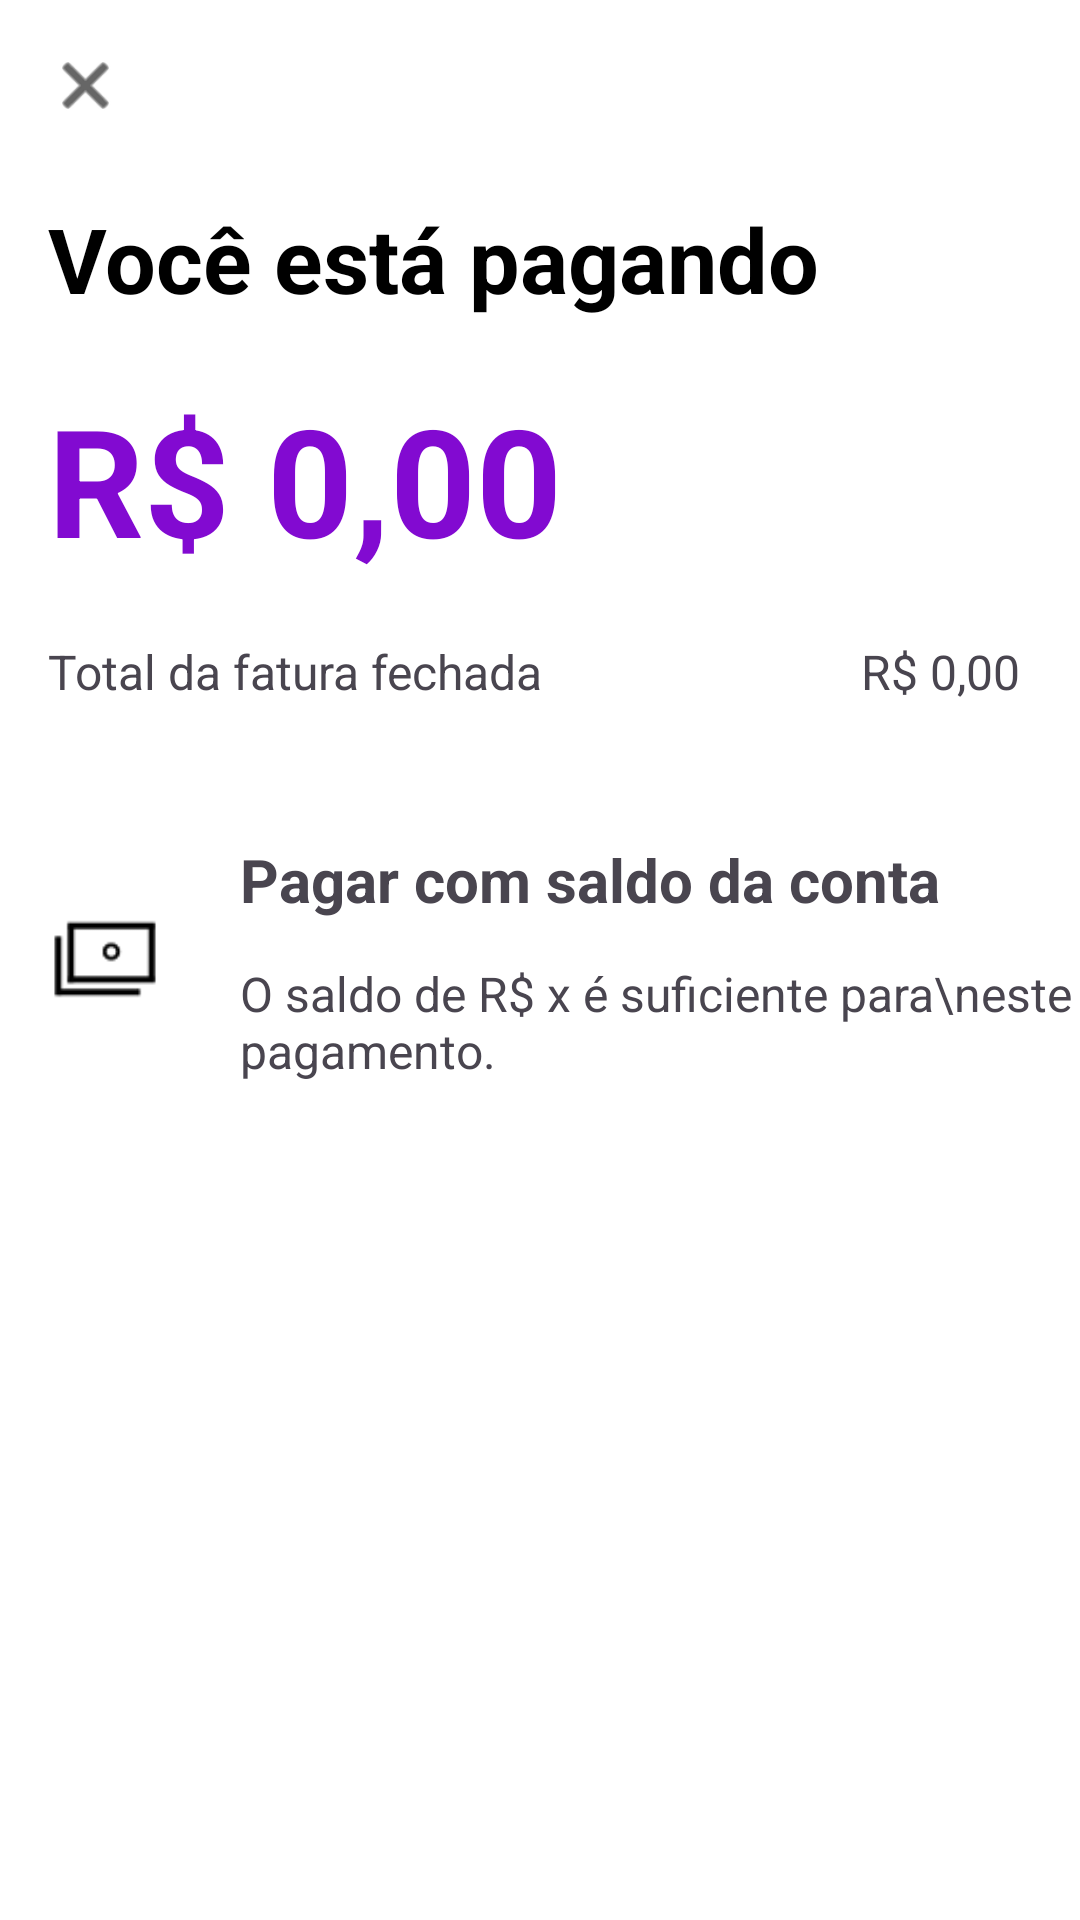

Named icons in this screenshot (1080px x 1920px) and their centers, point (x, y):
close clear cancel: point (85, 85)
depositpordinheiro: point (105, 959)
